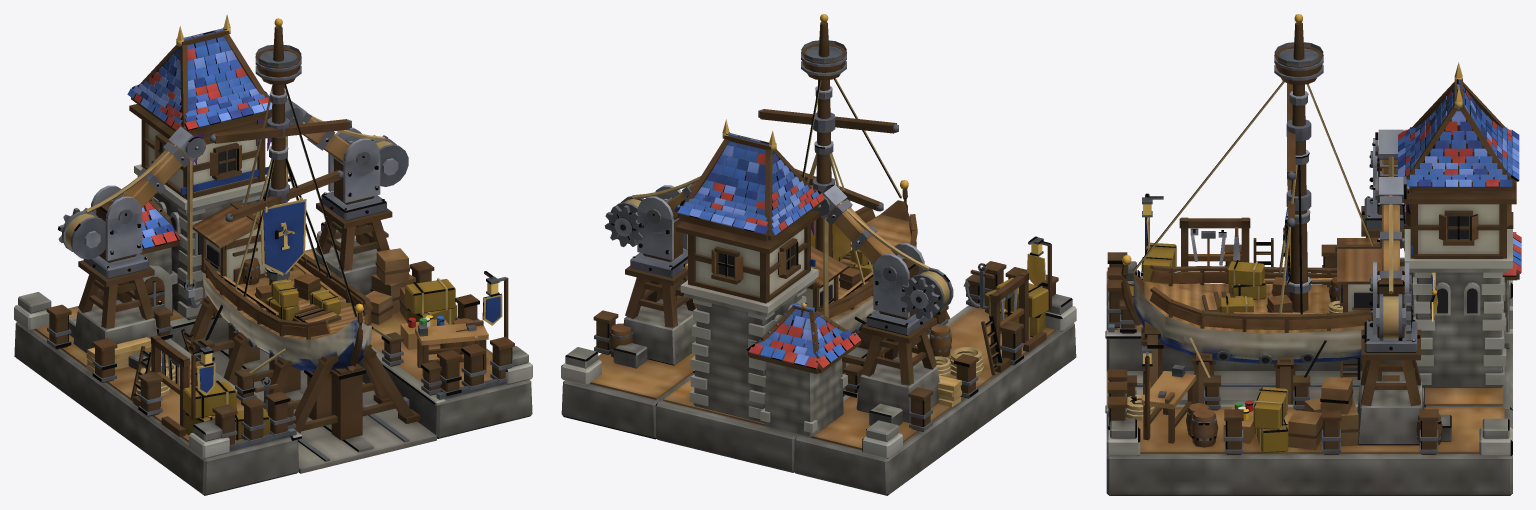
Rendered from shipyard.glb.
The picture shows the model from 3 angles, left to right: view 1: azimuth 30°, elevation 25°; view 2: azimuth 150°, elevation 25°; view 3: azimuth 270°, elevation 25°; orthographic projection. The views are drawn at different scales.
Visible parts, largest first — view 1: Static_Mesh, Anim_Banners, Anim_Crane, Anim_Crane_2; view 2: Static_Mesh, Anim_Crane, Anim_Banners, Anim_Crane_2; view 3: Static_Mesh, Anim_Crane_2, Anim_Crane, Anim_Banners.
Part boxes in pixels (<box>): Static_Mesh: <box>14,15,532,495</box>; Anim_Banners: <box>181,166,502,395</box>; Anim_Crane: <box>85,126,205,307</box>; Anim_Crane_2: <box>271,98,385,201</box>; Static_Mesh: <box>561,14,1076,495</box>; Anim_Crane: <box>813,184,929,317</box>; Anim_Banners: <box>685,185,1045,285</box>; Anim_Crane_2: <box>632,176,700,222</box>; Static_Mesh: <box>1105,14,1521,495</box>; Anim_Crane_2: <box>1372,176,1409,304</box>; Anim_Crane: <box>1372,129,1403,176</box>; Anim_Banners: <box>1144,207,1438,397</box>.
Bounding box in the file's own units: 7.64 × 8.09 × 7.69.
Materials: 2 (2 with a texture image).
